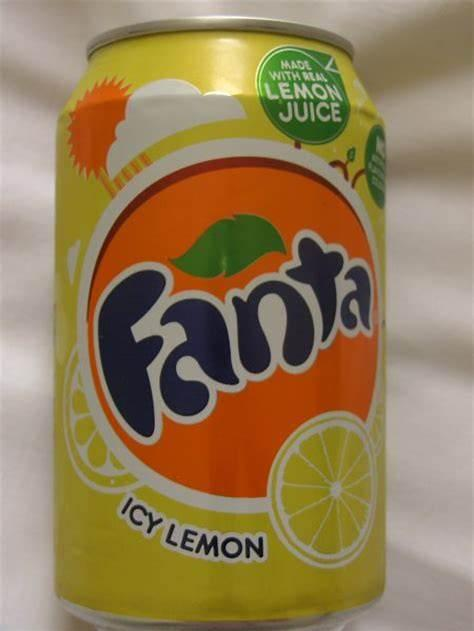metal: (55, 17, 387, 631)
